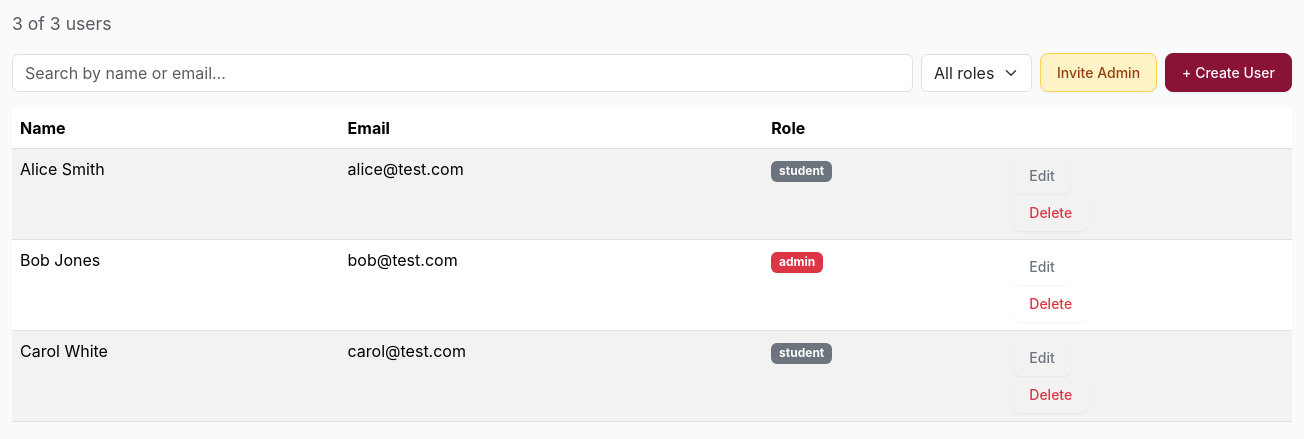
Test case: UserManagementTab › filters users by role
Expected: the text "Alice Smith" is shown, x1=12 y1=149 x2=340 y2=240
Select "Admin" in the dropdown: (976, 73) x1=921 y1=54 x2=1032 y2=92
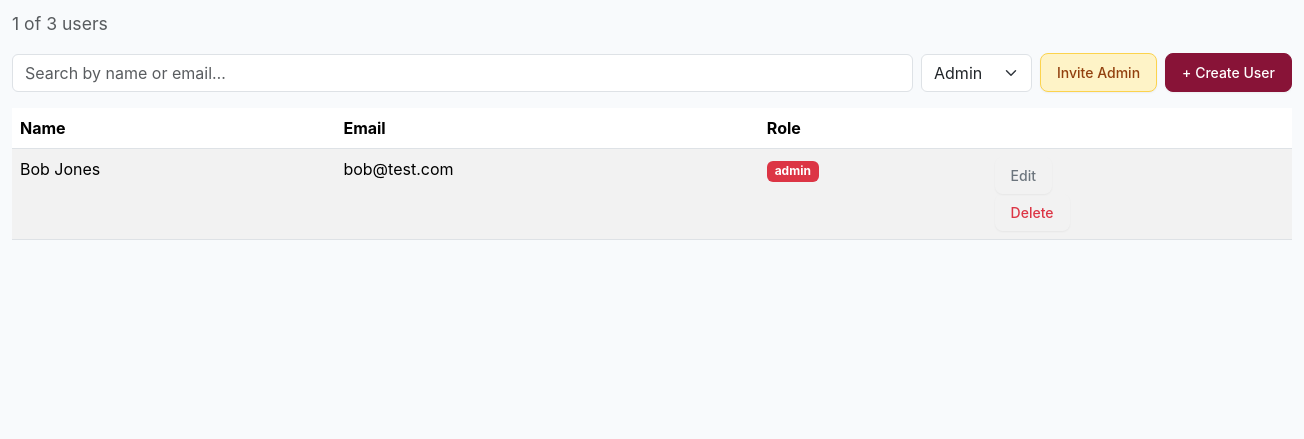
Expected: the text "Bob Jones" is shown, x1=12 y1=149 x2=335 y2=240
Result: the text "Alice Smith" is gone
